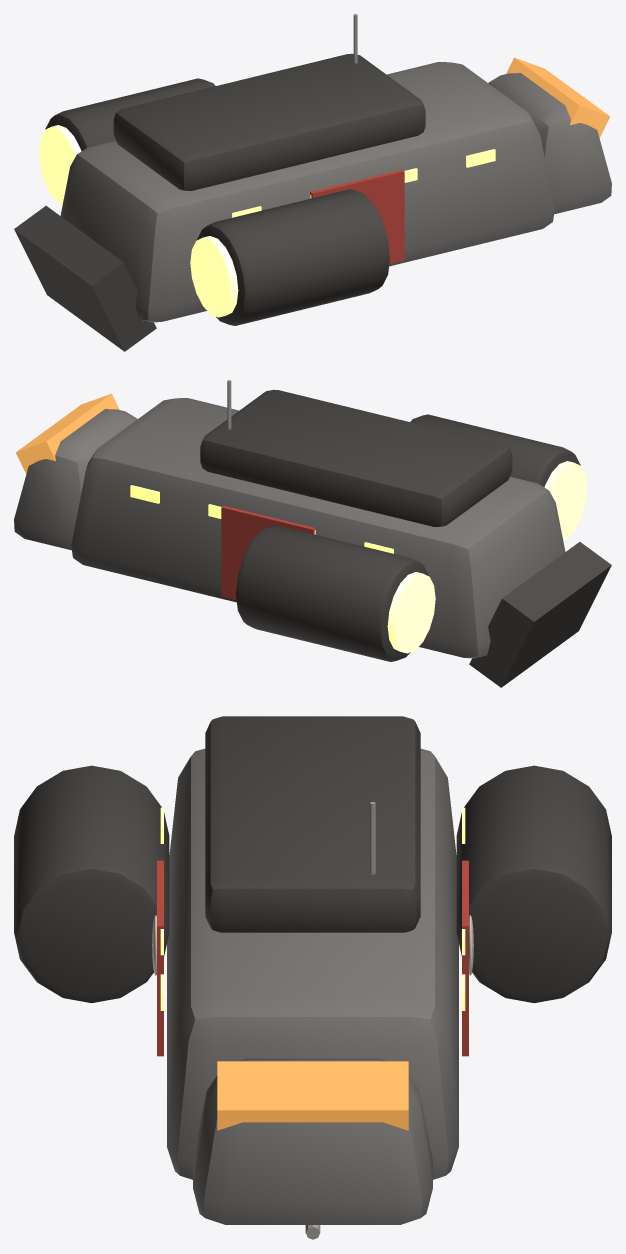
Rendered from hum_nave.glb.
The picture shows the model from 3 angles, top to bottom: view 1: azimuth 30°, elevation 25°; view 2: azimuth 150°, elevation 25°; view 3: azimuth 270°, elevation 25°; orthographic projection. The views are drawn at different scales.
Visible parts, largest first — view 1: hum_nave; view 2: hum_nave; view 3: hum_nave.
Part boxes in pixels (x1,y1,x2,y2): hum_nave: (14,14,611,351); hum_nave: (14,380,611,687); hum_nave: (14,716,611,1224).
Bounding box in the file's own units: 1.49 × 0.61 × 1.
